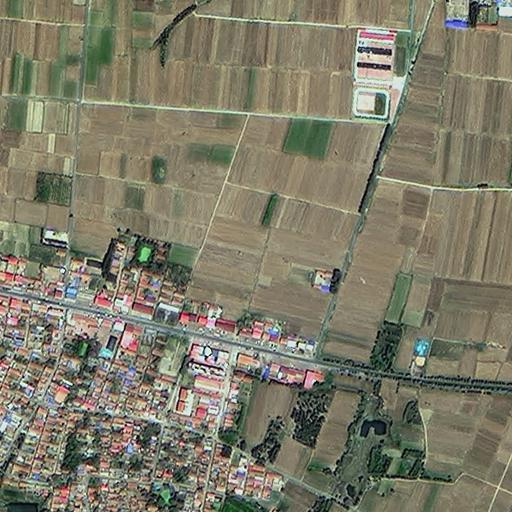school: (352, 26, 414, 121)
